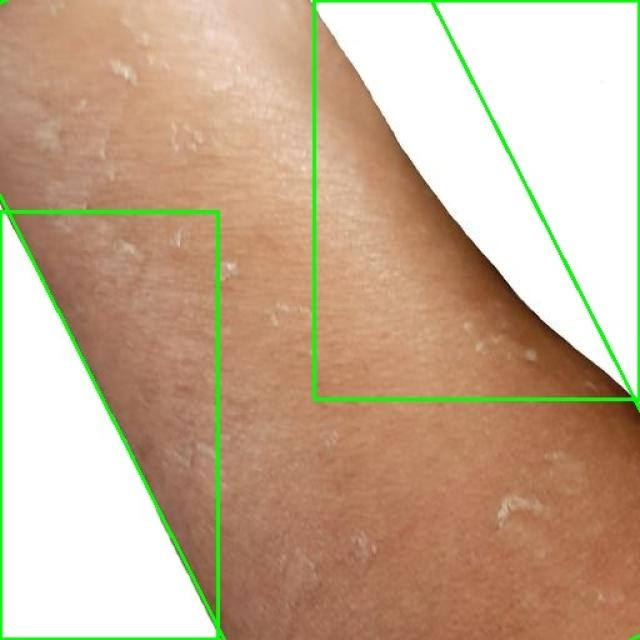Tinea Corporis: (0, 0, 640, 640), (314, 0, 639, 399), (0, 211, 218, 639)
